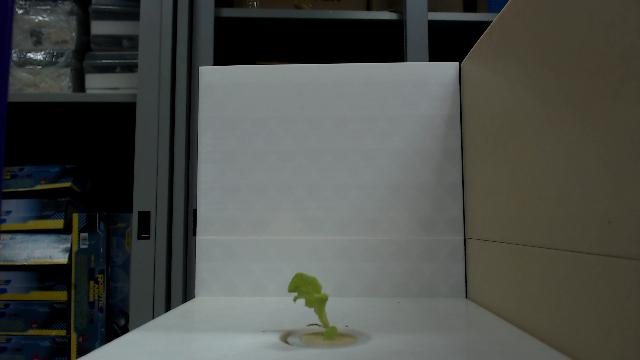Seedling Stage: (286, 271, 344, 343)
